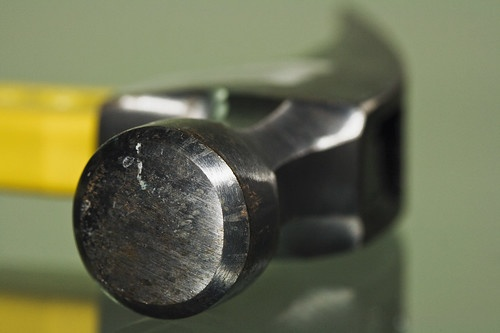hammer: (0, 13, 407, 321)
